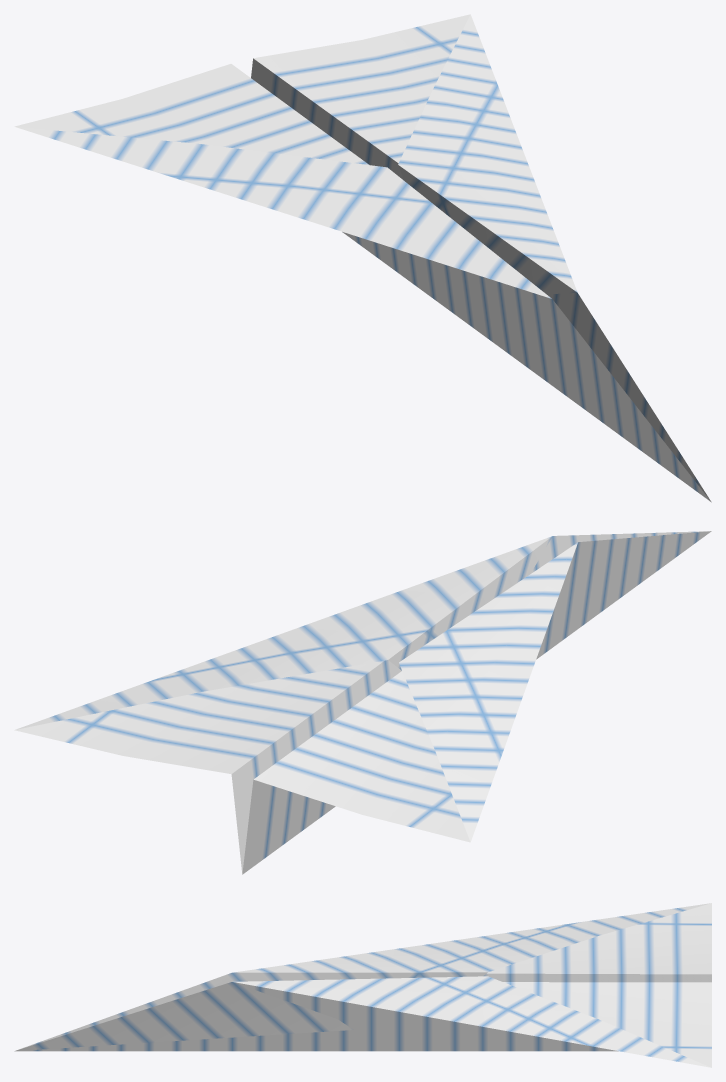
File: paper_airplane.glb
3 renders of one model, top to bottom at view 1: azimuth 30°, elevation 25°; view 2: azimuth 150°, elevation 25°; view 3: azimuth 270°, elevation 25°, orthographic. The views are drawn at different scales.
Parts seen in each view (by area): view 1: PaperAirplane; view 2: PaperAirplane; view 3: PaperAirplane.
Part boxes in pixels (x1,y1,x2,y2): PaperAirplane: (14,14,711,502); PaperAirplane: (14,531,711,874); PaperAirplane: (14,903,711,1067).
Bounding box in the file's own units: 0.1565 × 0.0338 × 0.2789.
1 material, 1 textured.
